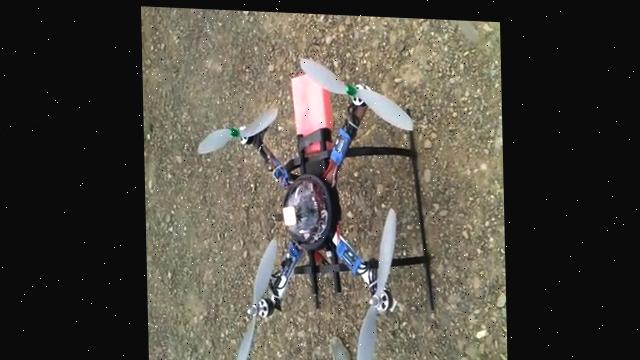drone: (190, 50, 435, 360)
